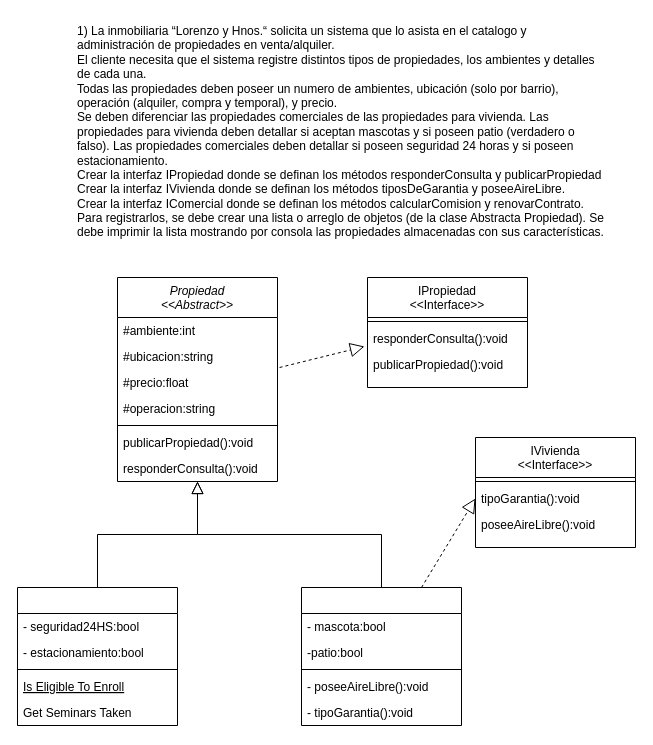
This 653x745 diagram has some shape labels left out. The box of each missing label's shape, as (x1, y1, x2, y2) in pixels:
Comercial: (16, 586, 178, 726)
Vivienda: (300, 586, 462, 726)
